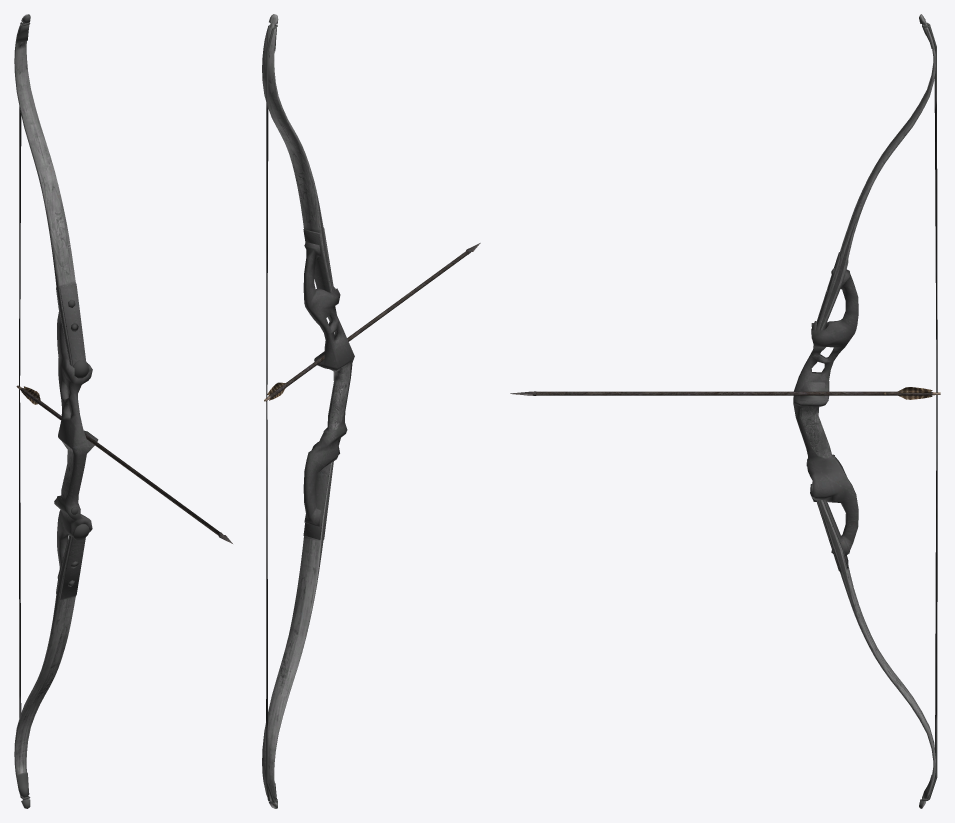
Rendered from Weapons_Bow01_3P_LOD0.glb.
3 renders of one model, left to right at view 1: azimuth 30°, elevation 25°; view 2: azimuth 150°, elevation 25°; view 3: azimuth 270°, elevation 25°, orthographic.
Visible parts, largest first — view 1: Hoodie; view 2: Hoodie; view 3: Hoodie.
Boxes of the visible parts, x1,y1,x2,y2 form: Hoodie: (14,14,232,808); Hoodie: (262,14,480,808); Hoodie: (510,14,940,808).
Size of the model in its own units: 0.0665 by 1.79 by 0.8803.
1 material, 1 textured.
